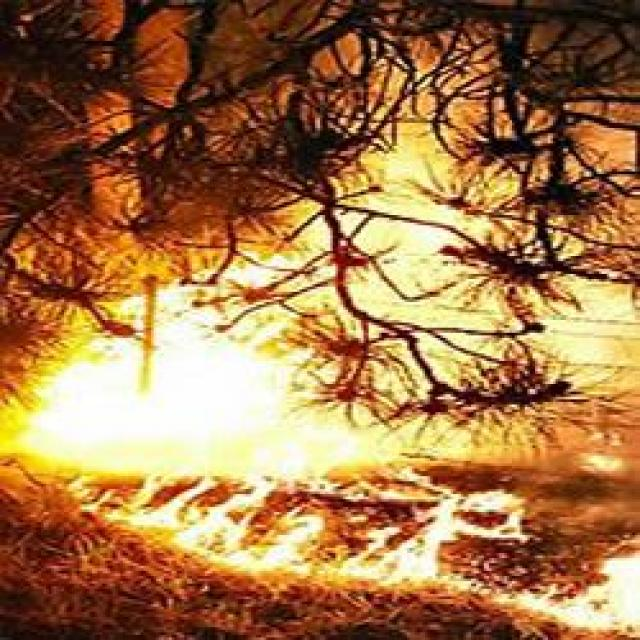fire: (11, 262, 348, 486), (120, 466, 318, 578), (340, 486, 505, 590), (502, 546, 640, 635)
